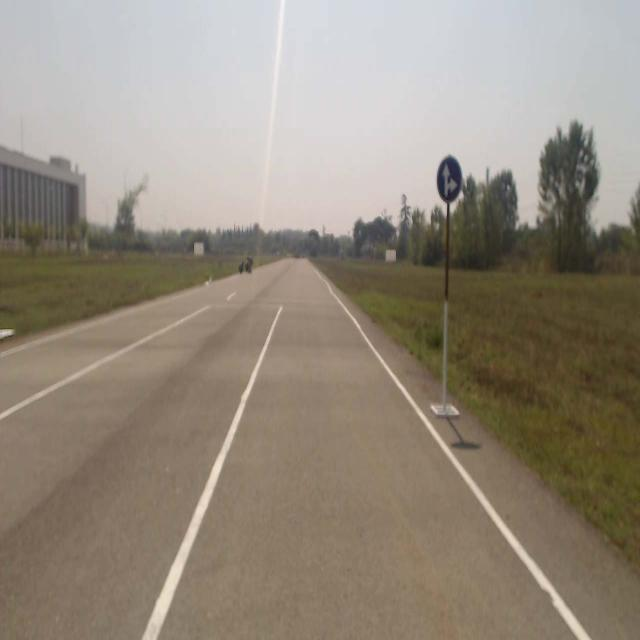ilerisag: (436, 158, 462, 202)
